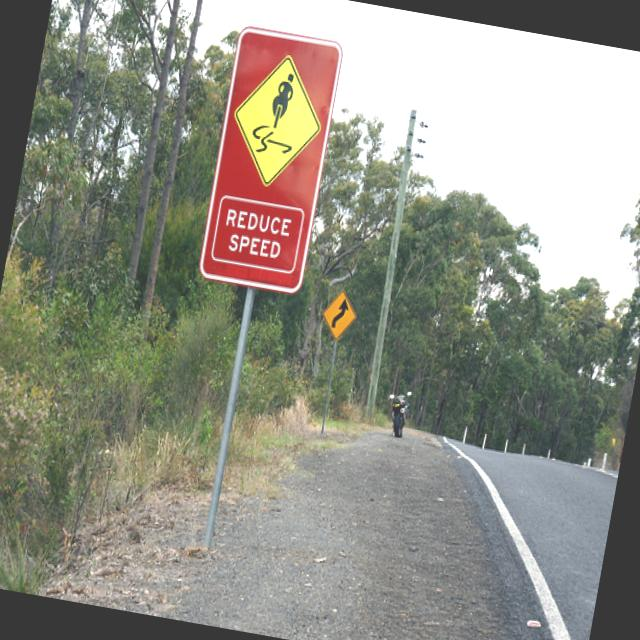Vehicle: (382, 386, 413, 438)
